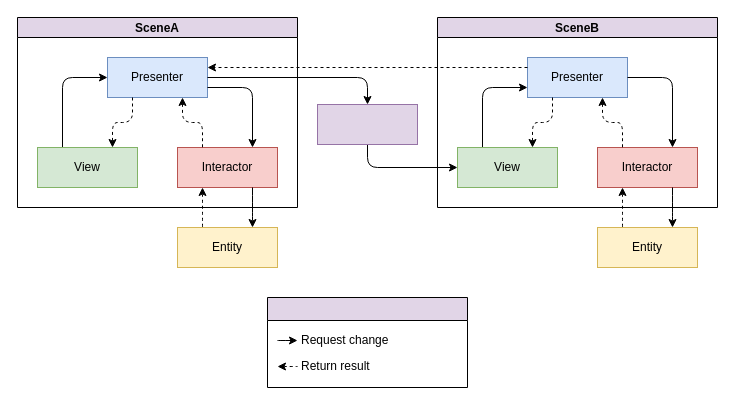
Image size: 735x405. Some labels were removed from this diagram. Here are the shapes that lost their labels. From the top down, the centre of each, then its label:
At pixel 367 124: "Router".
At pixel 367 342: "Legend".
